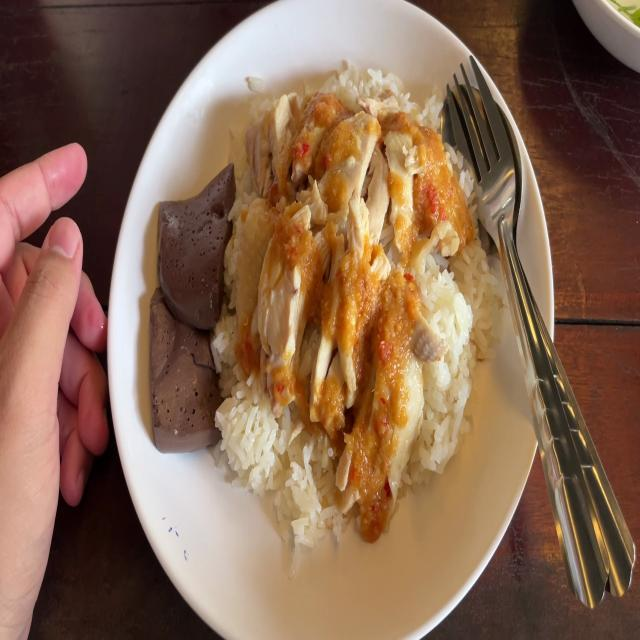chicken_rice: (234, 110, 439, 446)
noodle: (160, 167, 234, 336), (146, 294, 222, 457)
